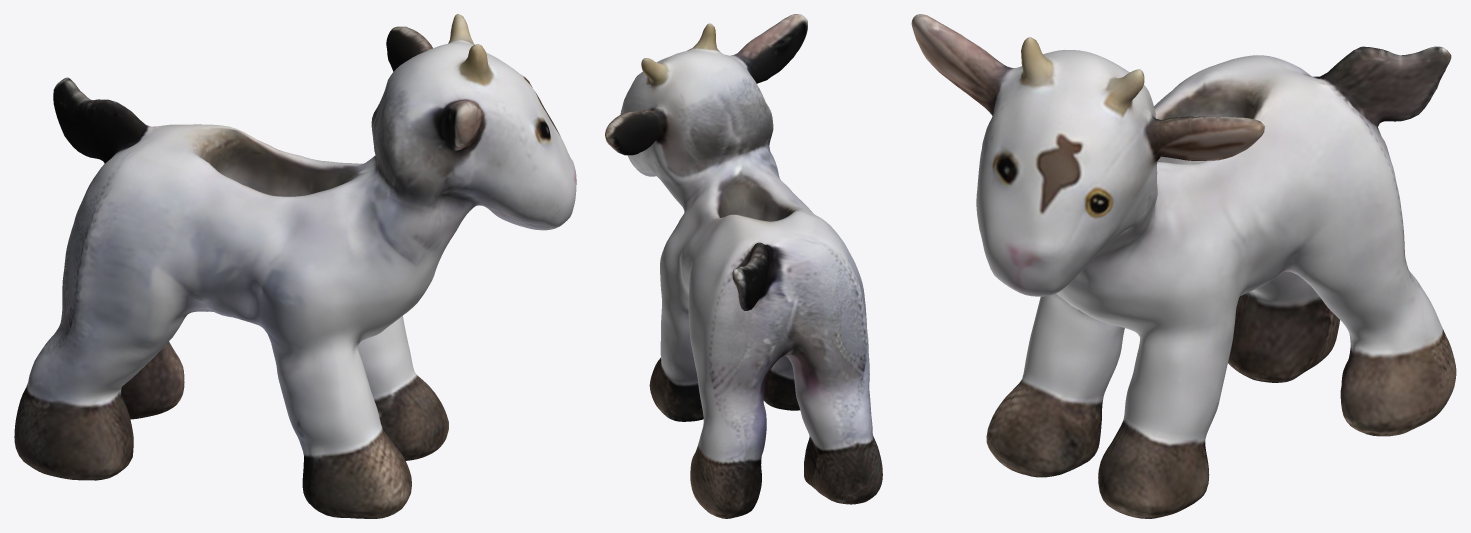
The picture shows the model from 3 angles, left to right: view 1: azimuth 30°, elevation 25°; view 2: azimuth 150°, elevation 25°; view 3: azimuth 270°, elevation 25°; orthographic projection. The views are drawn at different scales.
Visible parts, largest first — view 1: tripo_4bdf2f19-4b50-4b58-bf08-b0b176cfcc92; view 2: tripo_4bdf2f19-4b50-4b58-bf08-b0b176cfcc92; view 3: tripo_4bdf2f19-4b50-4b58-bf08-b0b176cfcc92.
Part boxes in pixels (x1,y1,x2,y2): tripo_4bdf2f19-4b50-4b58-bf08-b0b176cfcc92: (14, 14, 576, 518); tripo_4bdf2f19-4b50-4b58-bf08-b0b176cfcc92: (605, 14, 882, 518); tripo_4bdf2f19-4b50-4b58-bf08-b0b176cfcc92: (911, 14, 1456, 518).
Bounding box in the file's own units: 73.77 × 72.05 × 72.92.
Materials: 1 (1 with a texture image).
